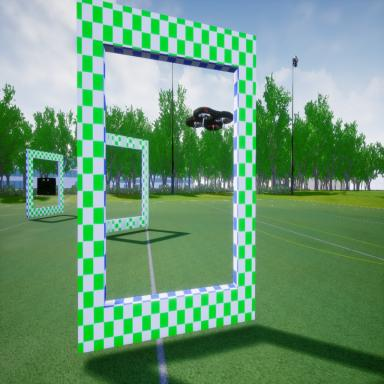gate: (75, 0, 258, 361), (24, 143, 66, 223)
